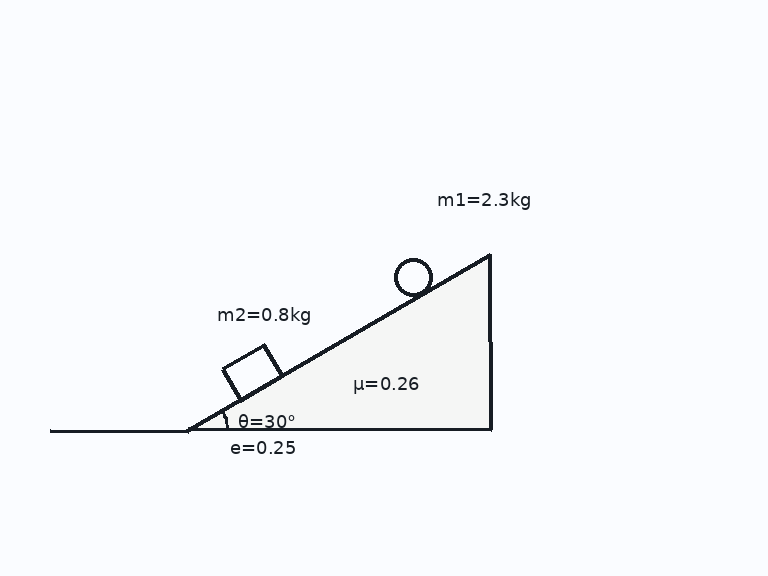ball: (392, 256, 434, 298)
block: (220, 342, 284, 401)
ramp: (185, 252, 493, 432)
